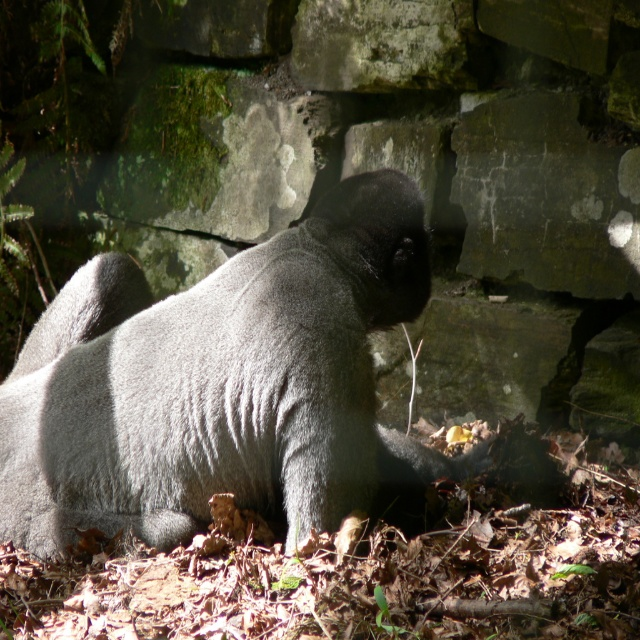Monkey: (0, 159, 500, 564)
